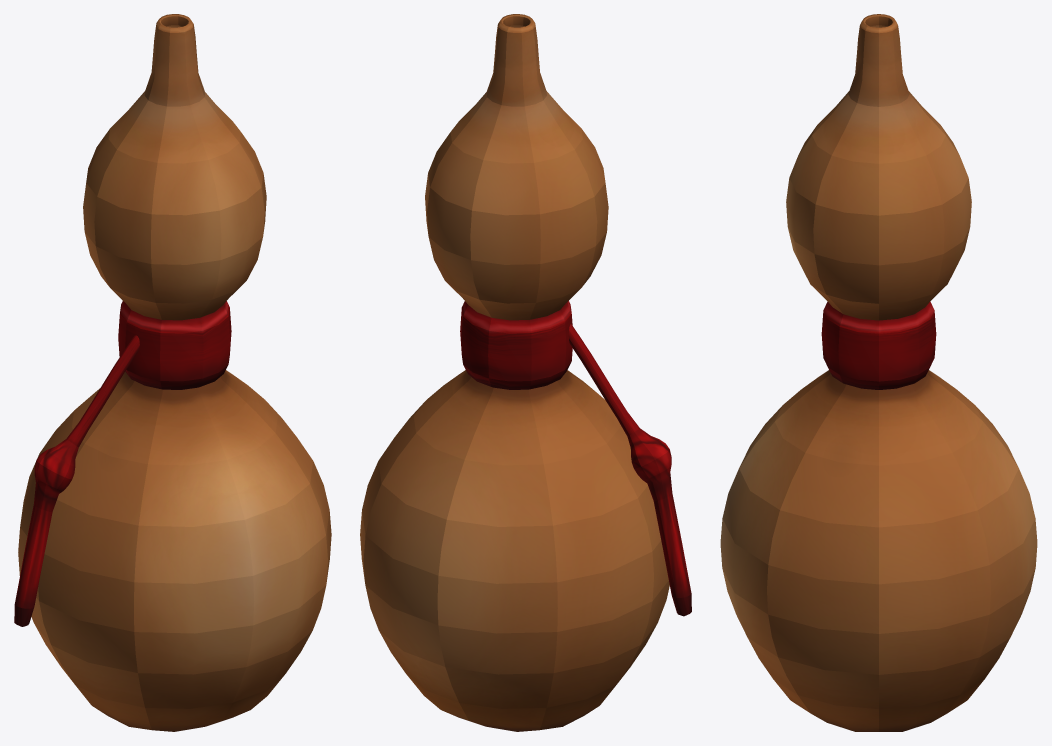
The model's file is GroundBottle.FBX.
3 views of the same model, side by side, from view 1: azimuth 30°, elevation 25°; view 2: azimuth 150°, elevation 25°; view 3: azimuth 270°, elevation 25° (orthographic).
Visible parts, largest first — view 1: Cylinder004; view 2: Cylinder004; view 3: Cylinder004.
Part boxes in pixels (x1=…): Cylinder004: x1=14, y1=14, x2=331, y2=731; Cylinder004: x1=360, y1=14, x2=691, y2=731; Cylinder004: x1=720, y1=14, x2=1037, y2=731.
Bounding box in the file's own units: 27.88 × 60.48 × 25.21.
